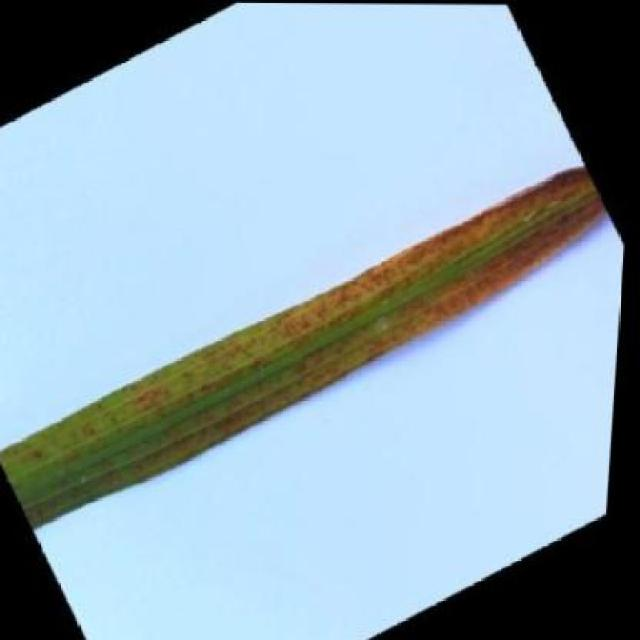Rice False Smut: (0, 142, 631, 550)
